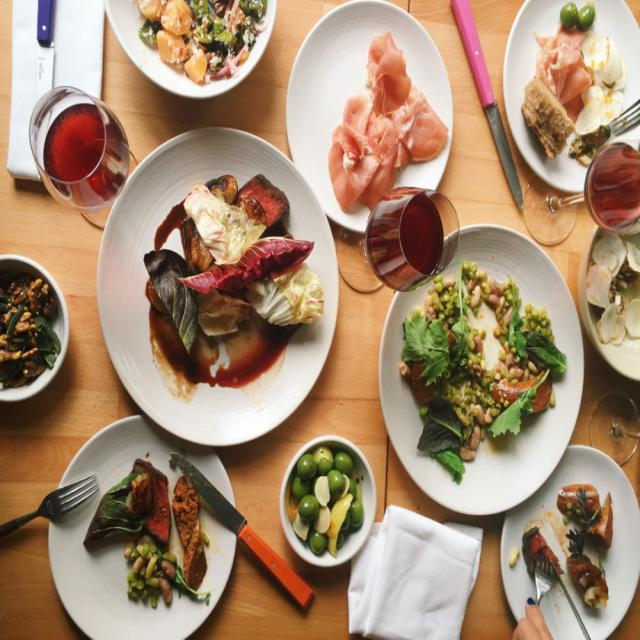bap cai xao: (112, 139, 328, 402)
thit dong: (307, 9, 462, 206)
xuc xich xao: (405, 224, 570, 483)
